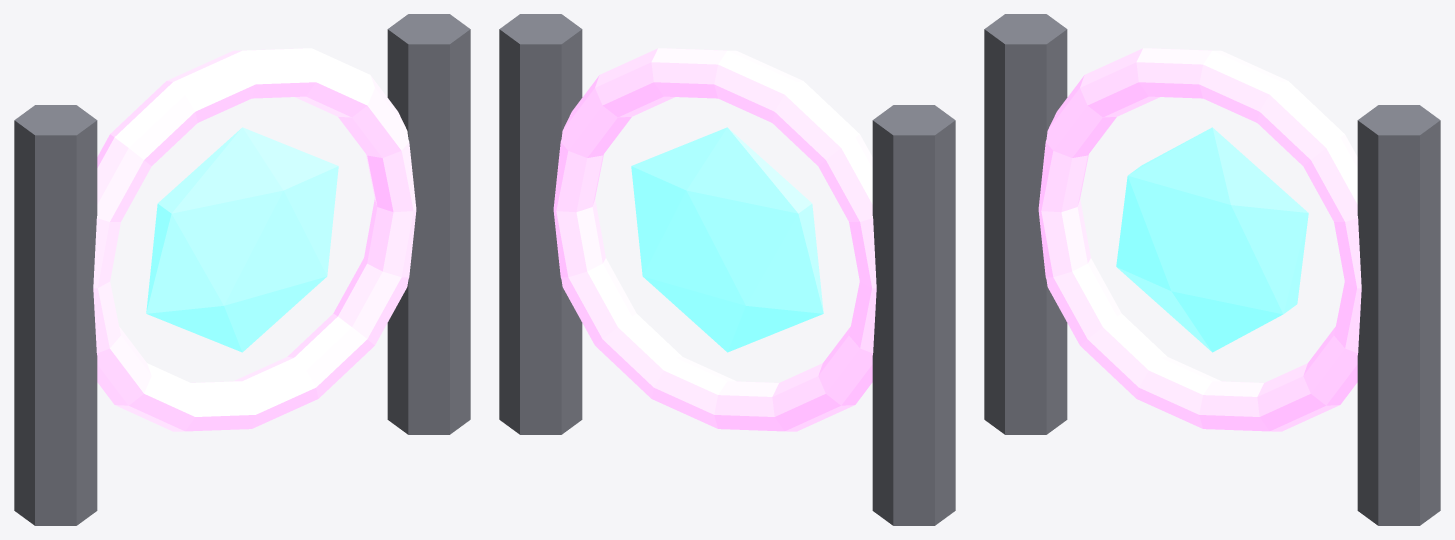
Rendered from portal_gate.glb.
3 renders of one model, left to right at view 1: azimuth 30°, elevation 25°; view 2: azimuth 150°, elevation 25°; view 3: azimuth 330°, elevation 25°, orthographic.
Visible parts, largest first — view 1: PortalPillarL; view 2: PortalPillarL; view 3: PortalPillarL.
Boxes of the visible parts, box(x1,y1,x2,y2) form: PortalPillarL: box(14, 14, 470, 525); PortalPillarL: box(499, 14, 955, 525); PortalPillarL: box(984, 14, 1440, 525).
Size of the model in its own units: 3.03 by 2.76 by 0.5.
